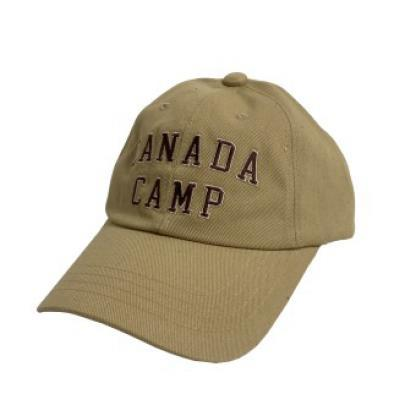cap: (27, 66, 366, 370)
